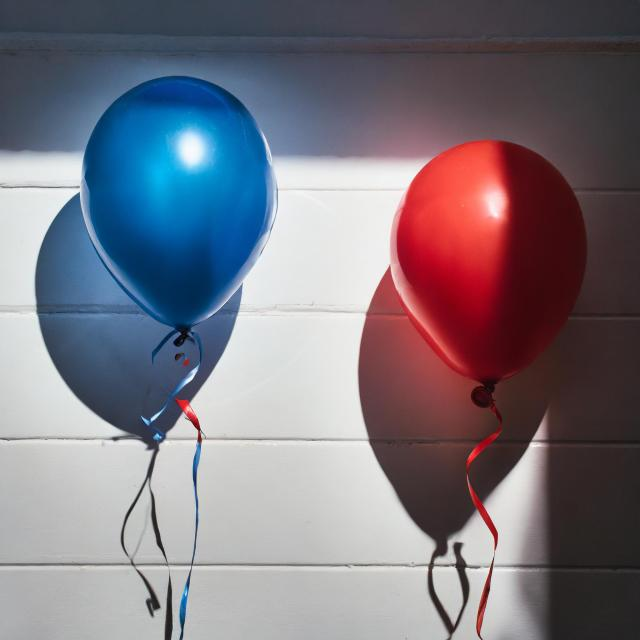blue: (77, 77, 282, 355)
red: (390, 142, 591, 415)
